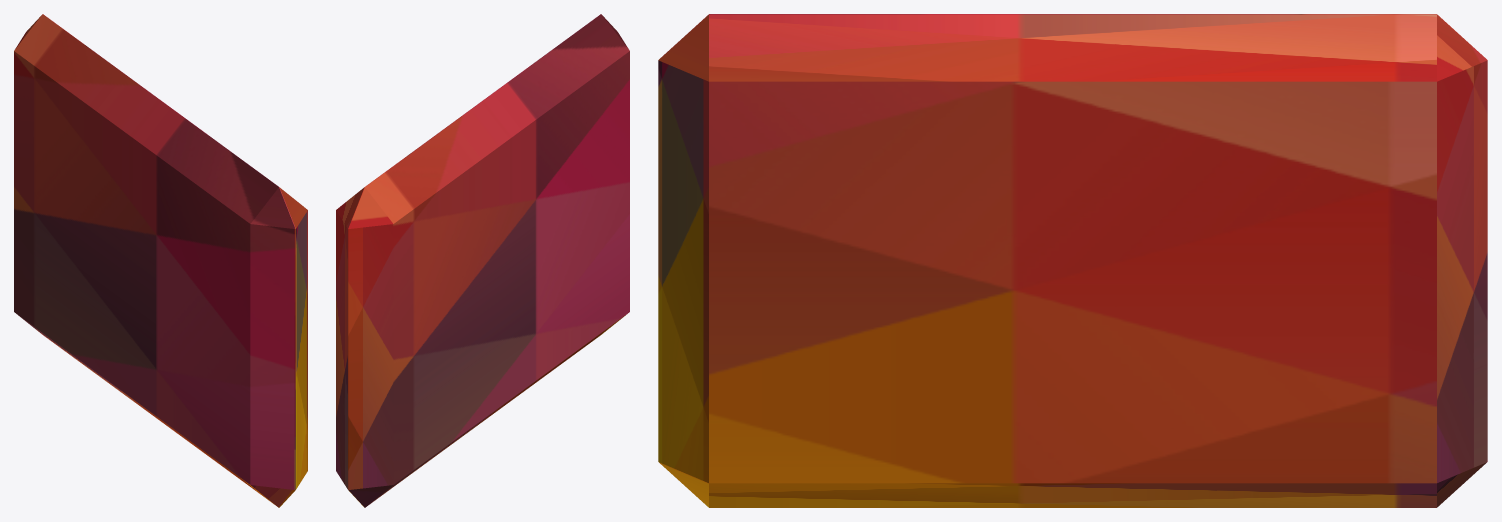
File: wallFall.fbx
3 renders of one model, left to right at view 1: azimuth 30°, elevation 25°; view 2: azimuth 150°, elevation 25°; view 3: azimuth 270°, elevation 25°, orthographic. The views are drawn at different scales.
Parts seen in each view (by area): view 1: Cube; view 2: Cube; view 3: Cube.
Part boxes in pixels (x1,y1,x2,y2): Cube: (14, 14, 307, 507); Cube: (336, 14, 629, 507); Cube: (658, 14, 1487, 507).
Size of the model in its own units: 0.5447 by 2.9 by 4.42.
1 material, 1 textured.
